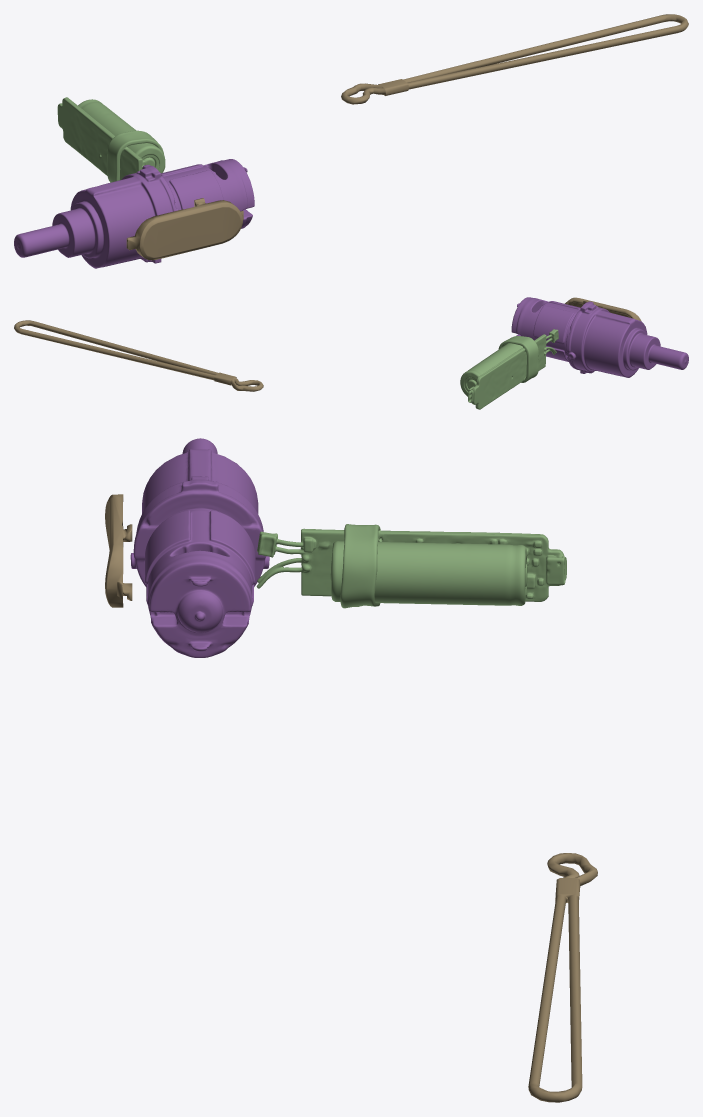
The model's file is trixig_plasticity_mesh_reference_MM.obj.
3 views of the same model, one above another, from view 1: azimuth 30°, elevation 25°; view 2: azimuth 150°, elevation 25°; view 3: azimuth 270°, elevation 25° (orthographic). The views are drawn at different scales.
Parts seen in each view (by area): view 1: REF_03_motor_gearbox, REF_04_pcb_battery_module, REF_01_clip, REF_02_top_panel; view 2: REF_03_motor_gearbox, REF_04_pcb_battery_module, REF_01_clip, REF_02_top_panel; view 3: REF_03_motor_gearbox, REF_04_pcb_battery_module, REF_01_clip, REF_02_top_panel.
Part boxes in pixels (<box>): REF_03_motor_gearbox: <box>14,159,254,268</box>; REF_04_pcb_battery_module: <box>57,97,165,182</box>; REF_01_clip: <box>341,14,688,104</box>; REF_02_top_panel: <box>126,198,243,260</box>; REF_03_motor_gearbox: <box>511,297,688,377</box>; REF_04_pcb_battery_module: <box>460,329,558,409</box>; REF_01_clip: <box>14,320,263,391</box>; REF_02_top_panel: <box>565,297,645,326</box>; REF_03_motor_gearbox: <box>130,438,269,657</box>; REF_04_pcb_battery_module: <box>256,524,566,608</box>; REF_01_clip: <box>528,853,597,1102</box>; REF_02_top_panel: <box>105,494,132,607</box>.
Size of the model in its own units: 372 by 46.85 by 137.
